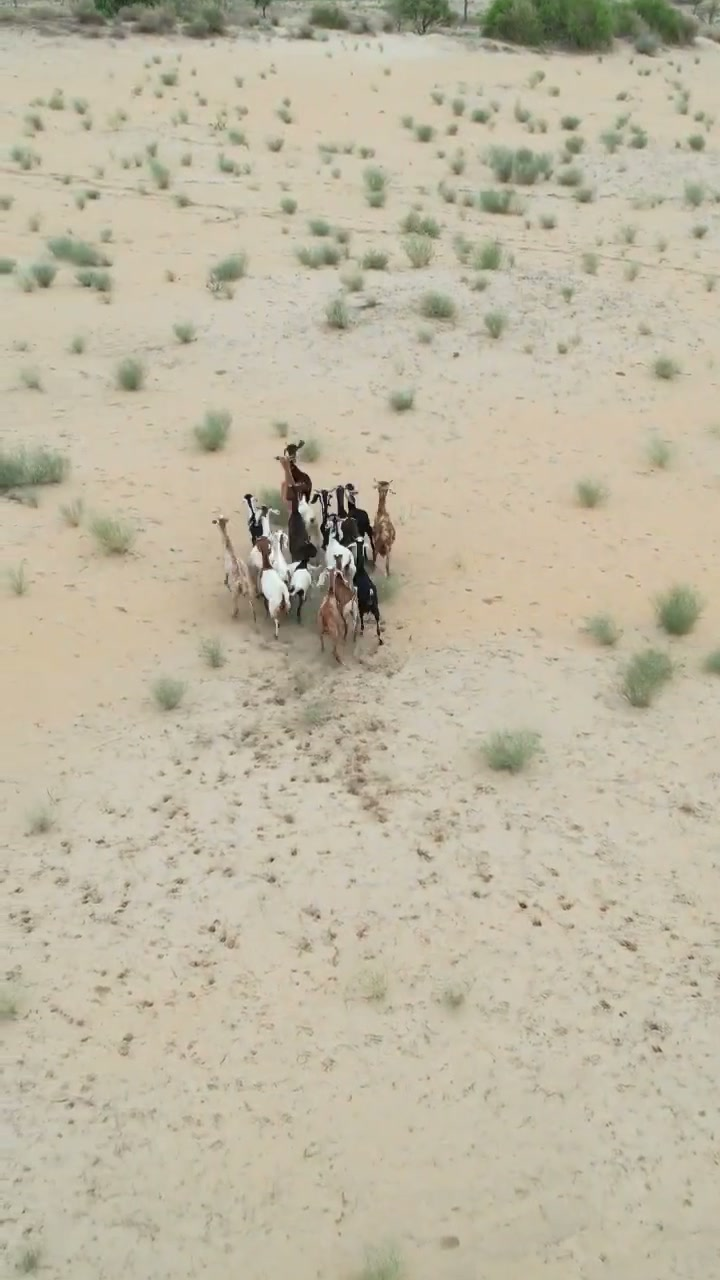animal_footprint: (0, 643, 667, 1144)
